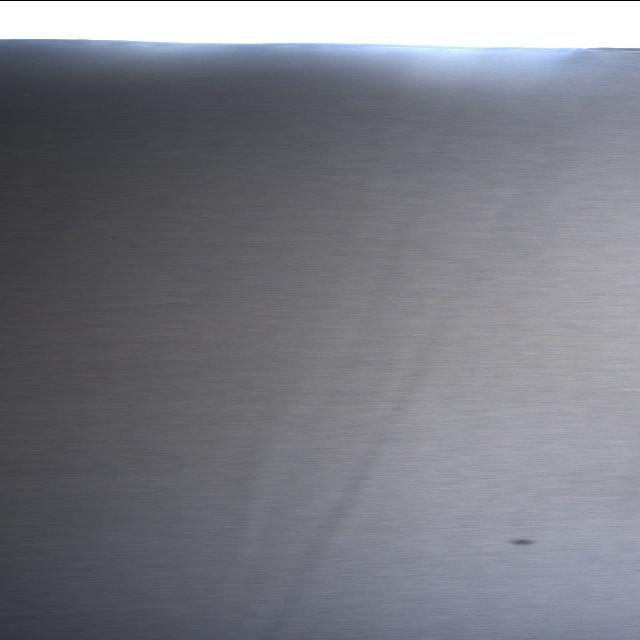crease: (256, 180, 549, 640), (205, 171, 414, 629), (35, 579, 378, 616), (56, 295, 193, 318)
